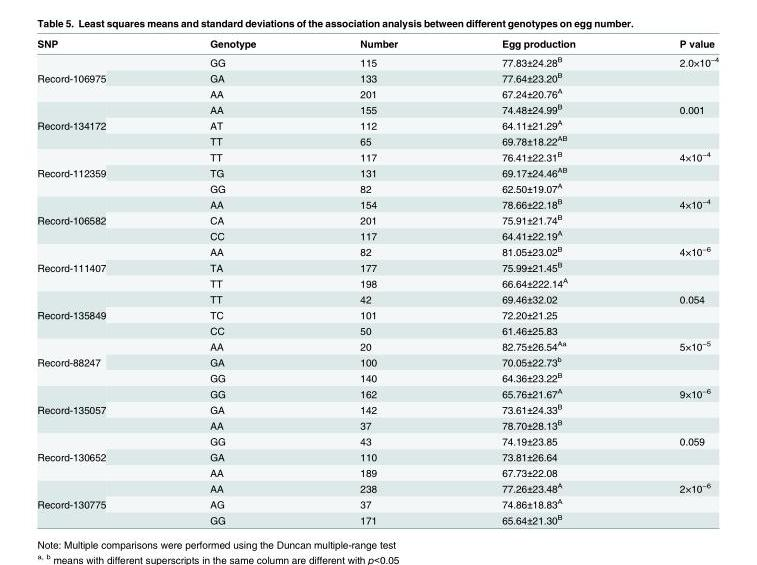table: (36, 37, 718, 525)
table column: (449, 37, 626, 525), (157, 37, 307, 525), (307, 37, 449, 525), (36, 37, 157, 525), (626, 37, 718, 525)
table column header: (36, 37, 718, 51)
table row: (36, 51, 718, 69), (36, 416, 718, 433), (36, 69, 718, 85), (36, 100, 718, 116), (36, 116, 718, 132), (36, 132, 718, 148), (36, 148, 718, 164), (36, 179, 718, 195), (36, 195, 718, 211), (36, 211, 718, 227), (36, 242, 718, 258), (36, 258, 718, 274), (36, 274, 718, 290), (36, 290, 718, 306), (36, 306, 718, 322), (36, 337, 718, 353), (36, 353, 718, 369), (36, 384, 718, 400), (36, 400, 718, 416), (36, 448, 718, 464), (36, 479, 718, 495), (36, 495, 718, 511), (36, 85, 718, 100), (36, 164, 718, 179), (36, 227, 718, 242), (36, 322, 718, 337), (36, 369, 718, 384), (36, 433, 718, 448), (36, 464, 718, 479), (36, 37, 718, 51), (36, 511, 718, 525)
table spanning cell: (36, 51, 157, 100), (36, 384, 157, 433), (36, 100, 157, 148), (36, 242, 157, 290), (36, 148, 157, 195), (36, 195, 157, 242), (36, 290, 157, 337), (36, 337, 157, 384), (36, 433, 157, 479), (36, 479, 157, 525)
